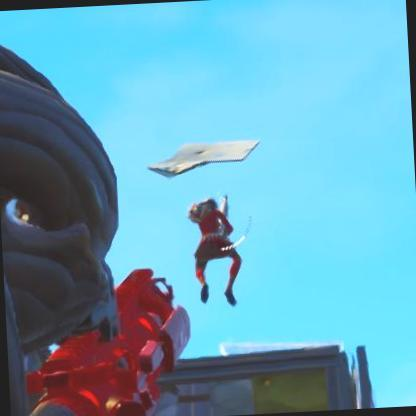person: (184, 193, 246, 306)
